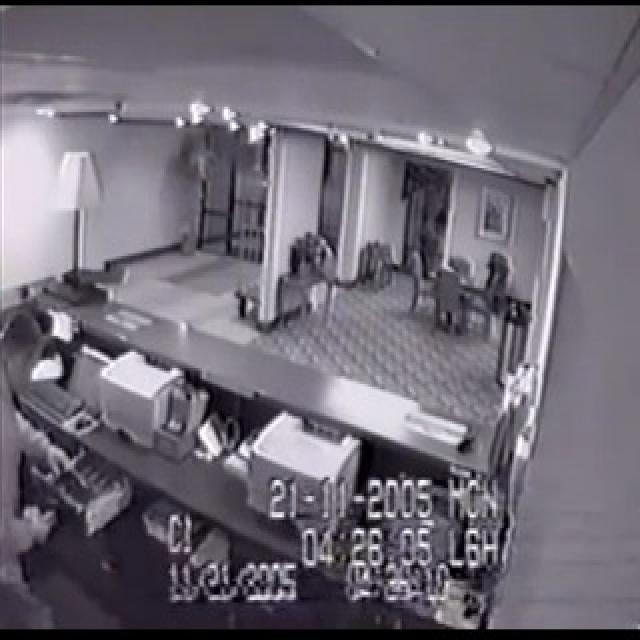thief: (0, 282, 90, 609)
